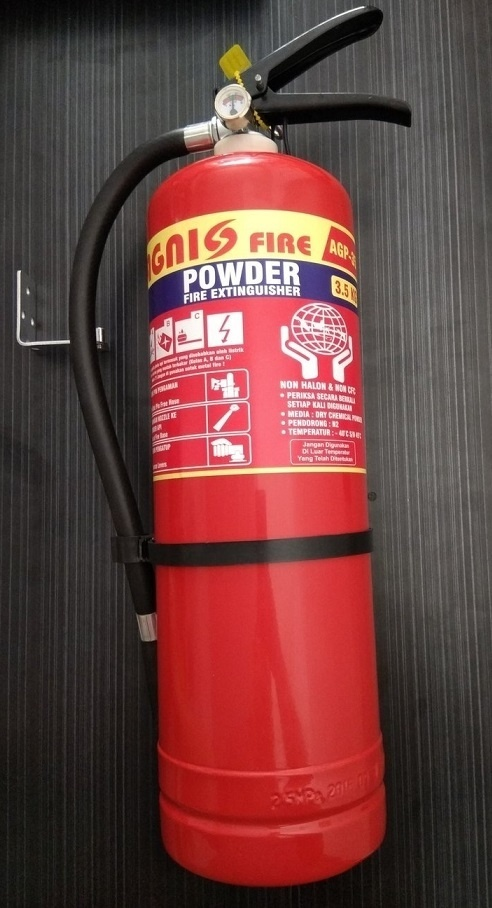fire_extinguisher: (67, 5, 412, 888)
